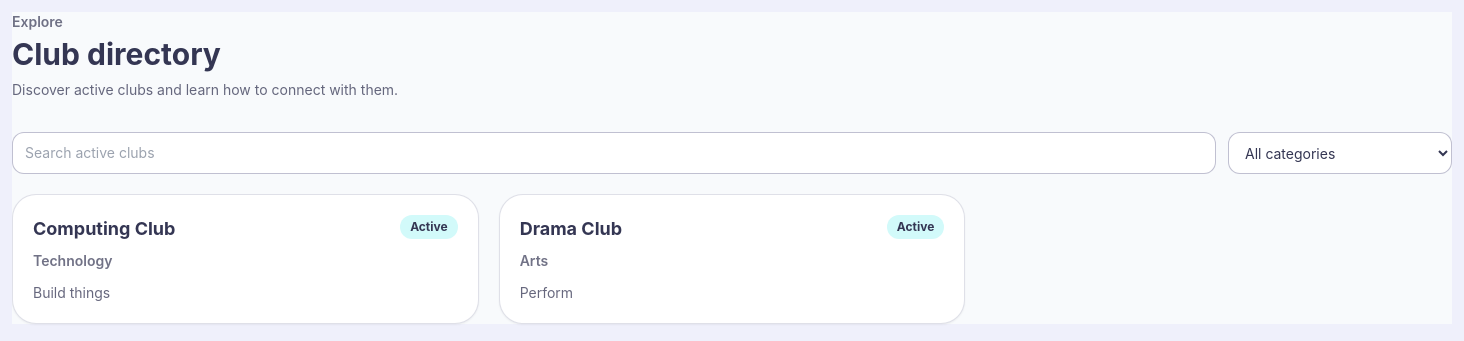
Test: ClubDirectoryPage › filters the directory by search and category
Expected: the heading "Computing Club" is shown, [33,215,175,243]
Expected: the heading "Drama Club" is shown, [520,215,622,243]
Type "computing" into the field named "Search clubs".
click(614, 153); type("computing")  # box [12,132,1216,174]
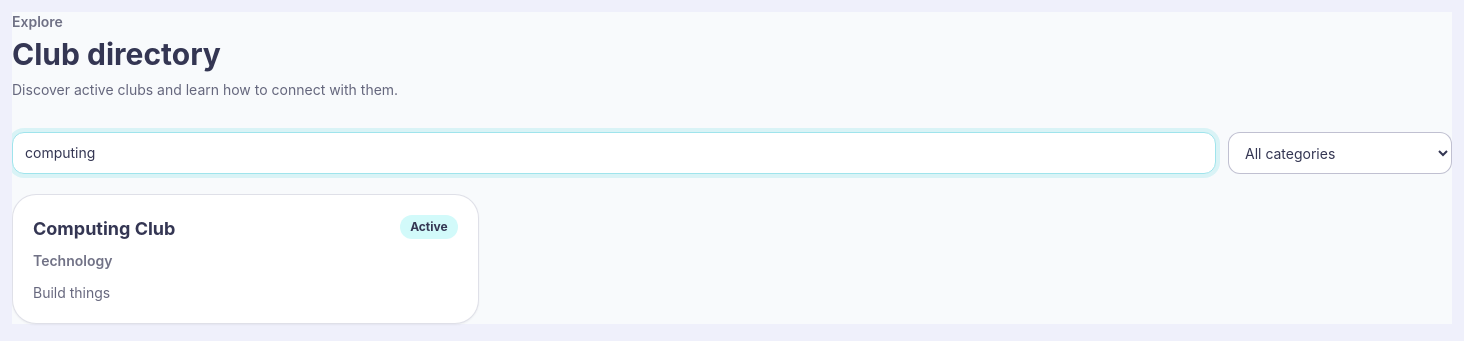
Expected: the heading "Computing Club" is shown, [33,215,175,243]
Result: the link "Drama Club" is gone
